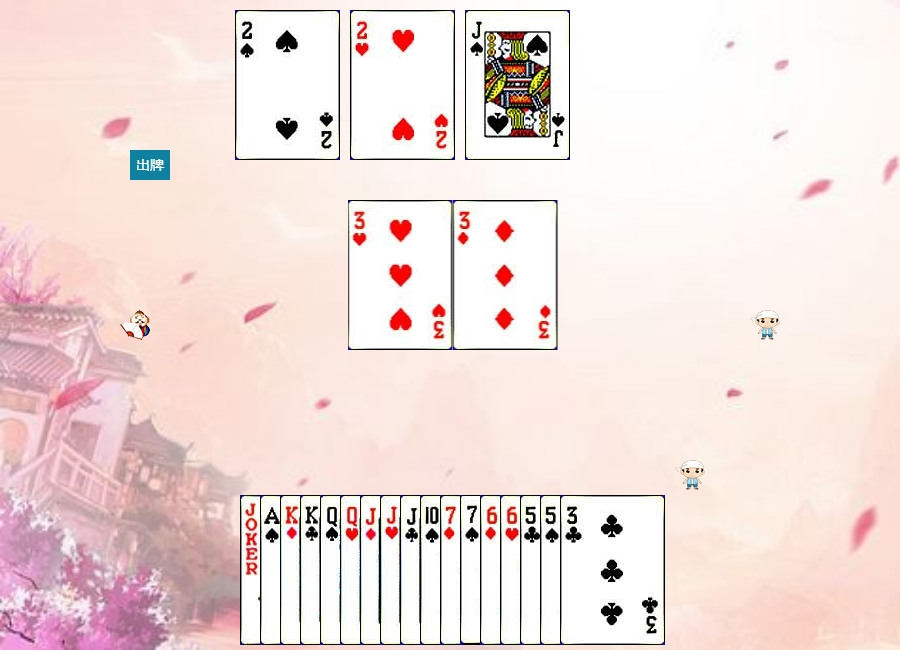10~4: (420, 495, 525, 645)
11~1: (360, 495, 465, 645)
11~2: (400, 495, 505, 645)
11~3: (380, 495, 485, 645)
11~4: (465, 10, 570, 160)
12~3: (340, 495, 445, 645)
12~4: (320, 495, 425, 645)
13~1: (280, 495, 385, 645)
13~2: (300, 495, 405, 645)
14~4: (260, 495, 365, 645)
15~3: (350, 10, 455, 160)
15~4: (235, 10, 340, 160)
18~4: (240, 495, 345, 645)
3~1: (453, 200, 558, 350)
3~2: (560, 495, 665, 645)
3~3: (348, 200, 453, 350)
5~2: (520, 495, 625, 645)
5~4: (540, 495, 645, 645)
6~1: (480, 495, 585, 645)
6~3: (500, 495, 605, 645)
7~1: (440, 495, 545, 645)
7~4: (460, 495, 565, 645)
